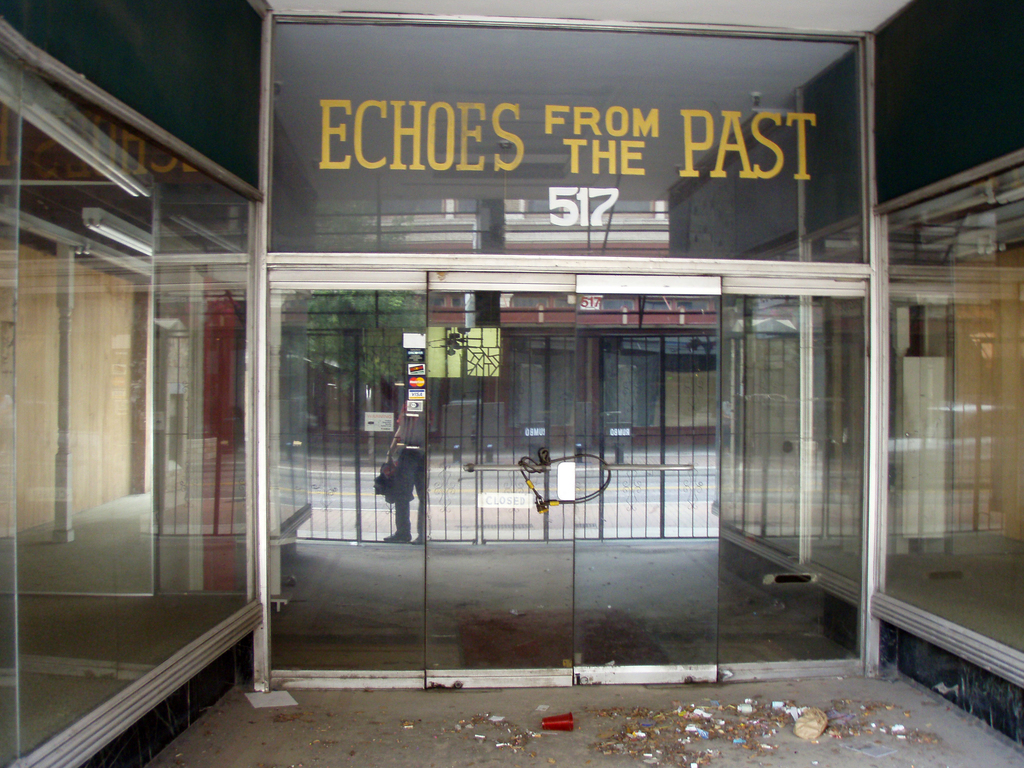door: (428, 285, 570, 668), (582, 294, 718, 673)
handle: (583, 458, 698, 479), (467, 457, 559, 479)
